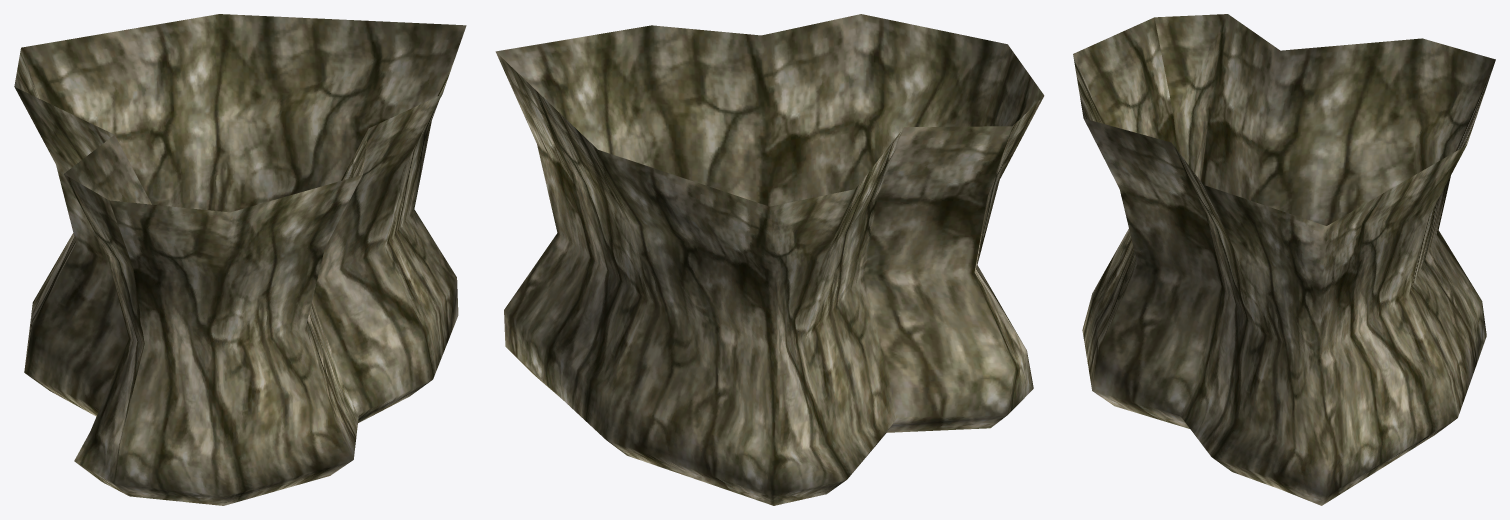
The model's file is CB_NEWPLAYSURFACE_CB_PLAYSURFACE51.fbx.
The picture shows the model from 3 angles, left to right: view 1: azimuth 30°, elevation 25°; view 2: azimuth 150°, elevation 25°; view 3: azimuth 270°, elevation 25°; orthographic projection. The views are drawn at different scales.
Visible parts, largest first — view 1: CB_NEWPLAYSURFACE_CB_PLAYSURFACE51; view 2: CB_NEWPLAYSURFACE_CB_PLAYSURFACE51; view 3: CB_NEWPLAYSURFACE_CB_PLAYSURFACE51.
Part boxes in pixels (left/top/right/bottom): CB_NEWPLAYSURFACE_CB_PLAYSURFACE51: left=14, top=14, right=466, bottom=505; CB_NEWPLAYSURFACE_CB_PLAYSURFACE51: left=495, top=14, right=1044, bottom=505; CB_NEWPLAYSURFACE_CB_PLAYSURFACE51: left=1073, top=14, right=1495, bottom=505.
Size of the model in its own units: 71218 by 46271 by 60013.
2 materials, 2 textured.
